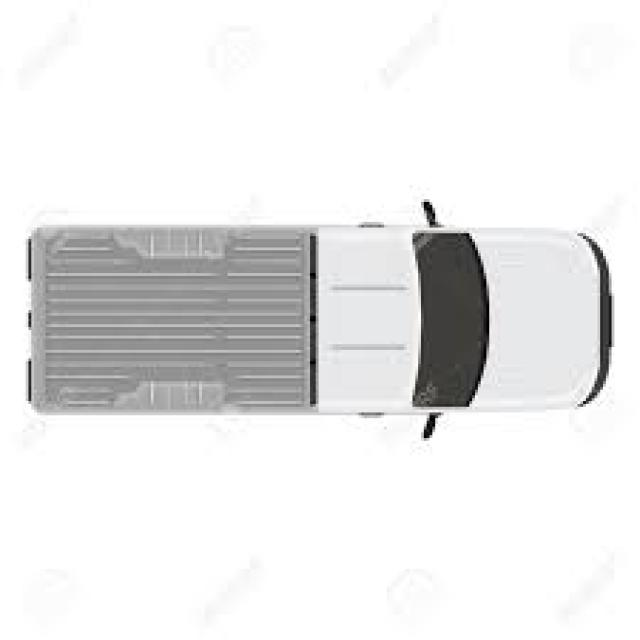truck: (27, 218, 611, 413)
